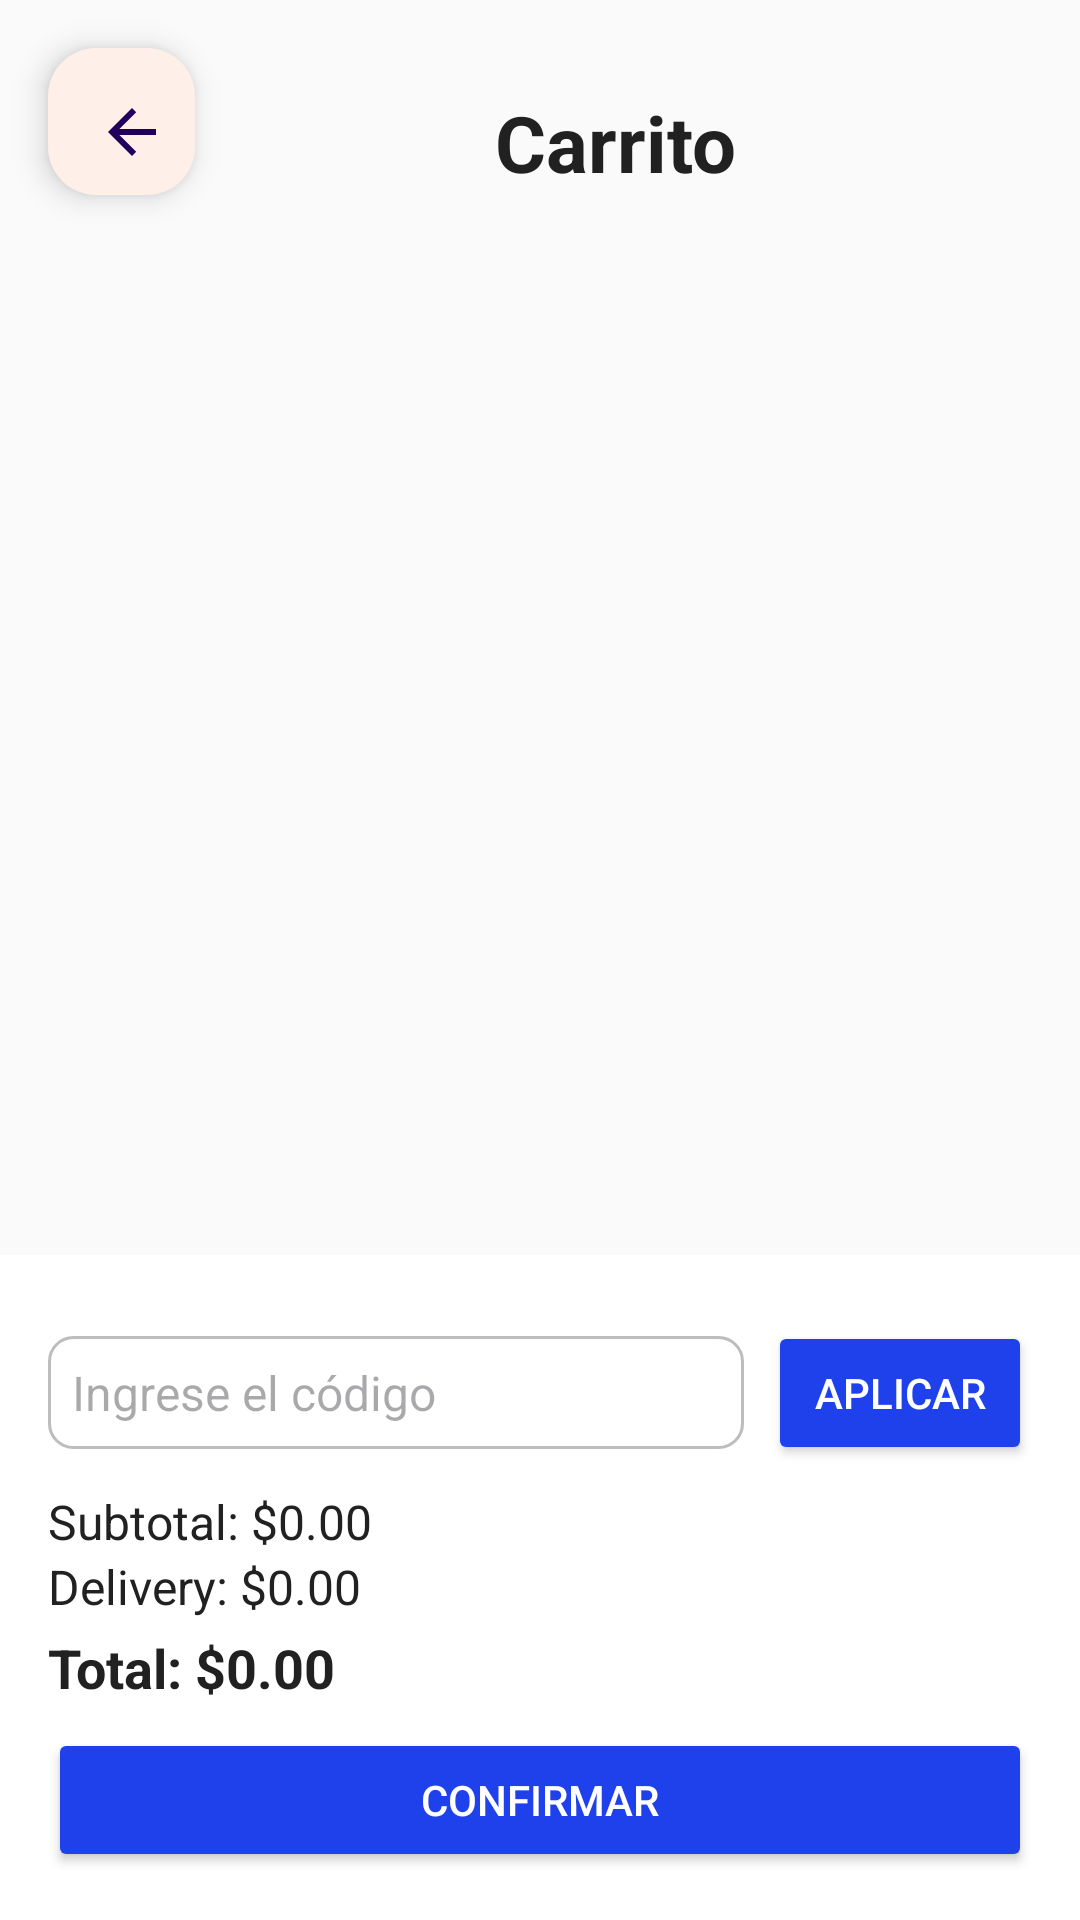

Screen size 1080 × 1920. Icon name, then its center in pixels as [x,y]:
Regresar: [121,121]
